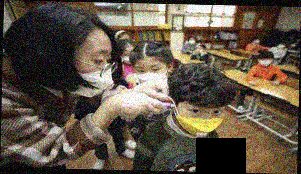with_mask: (72, 46, 115, 99), (172, 99, 225, 138), (132, 60, 169, 86), (119, 48, 134, 66), (257, 55, 274, 69), (277, 42, 286, 51), (188, 38, 196, 46), (254, 39, 261, 45)
